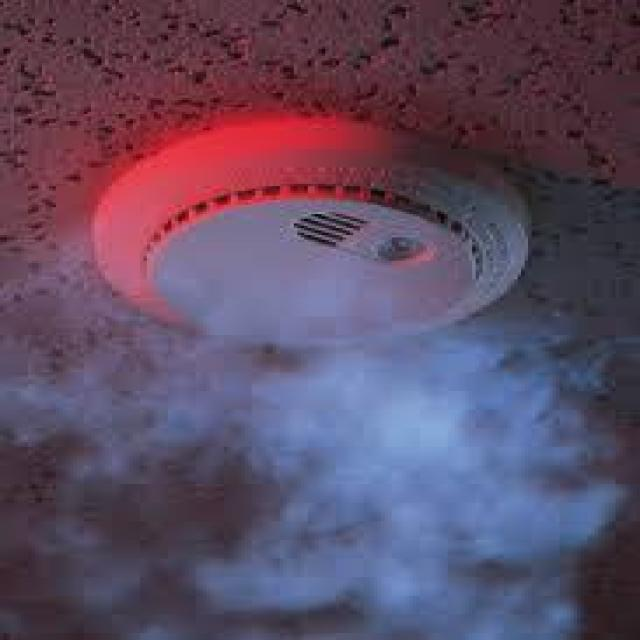Smoke: (31, 309, 618, 640)
